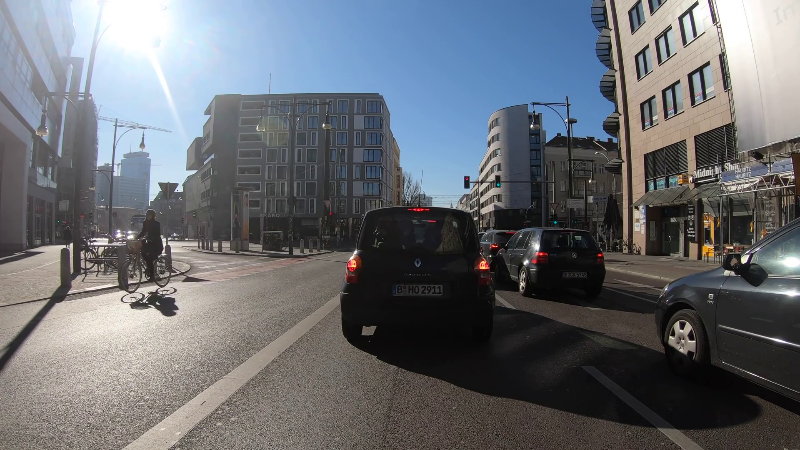Plate: (389, 282, 446, 297), (560, 270, 590, 278)
